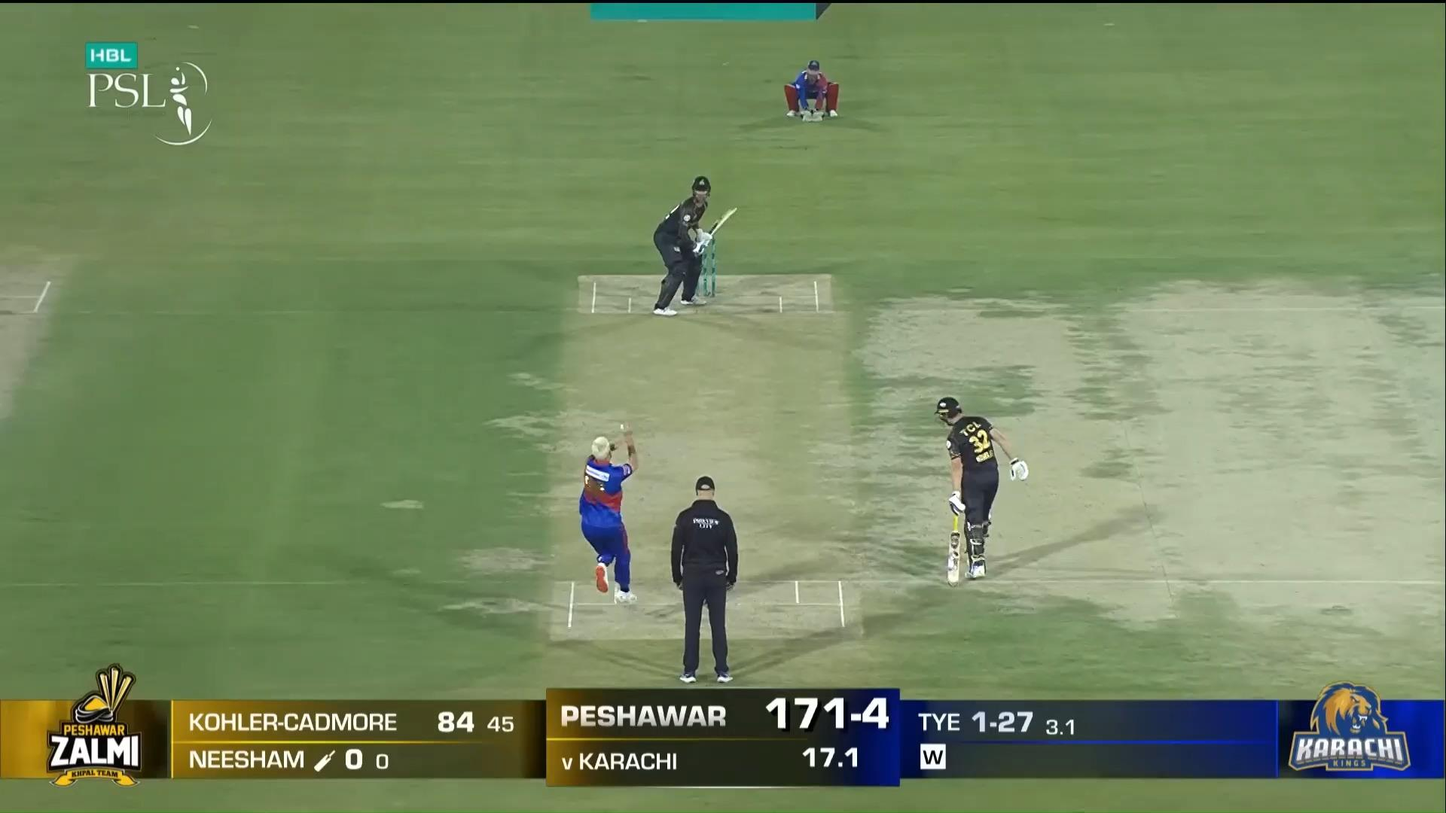batsman: (653, 176, 737, 316)
